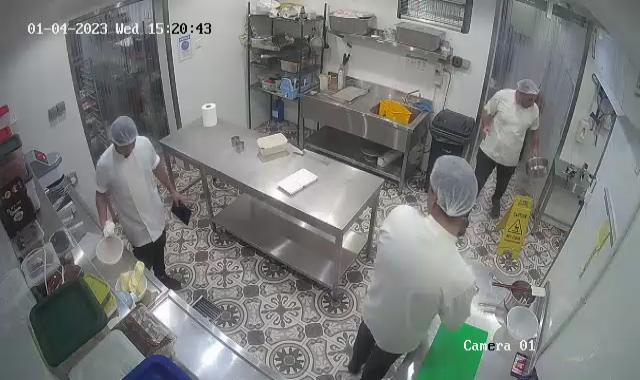hairnet: (426, 152, 479, 217), (110, 114, 138, 150), (518, 78, 540, 98)
